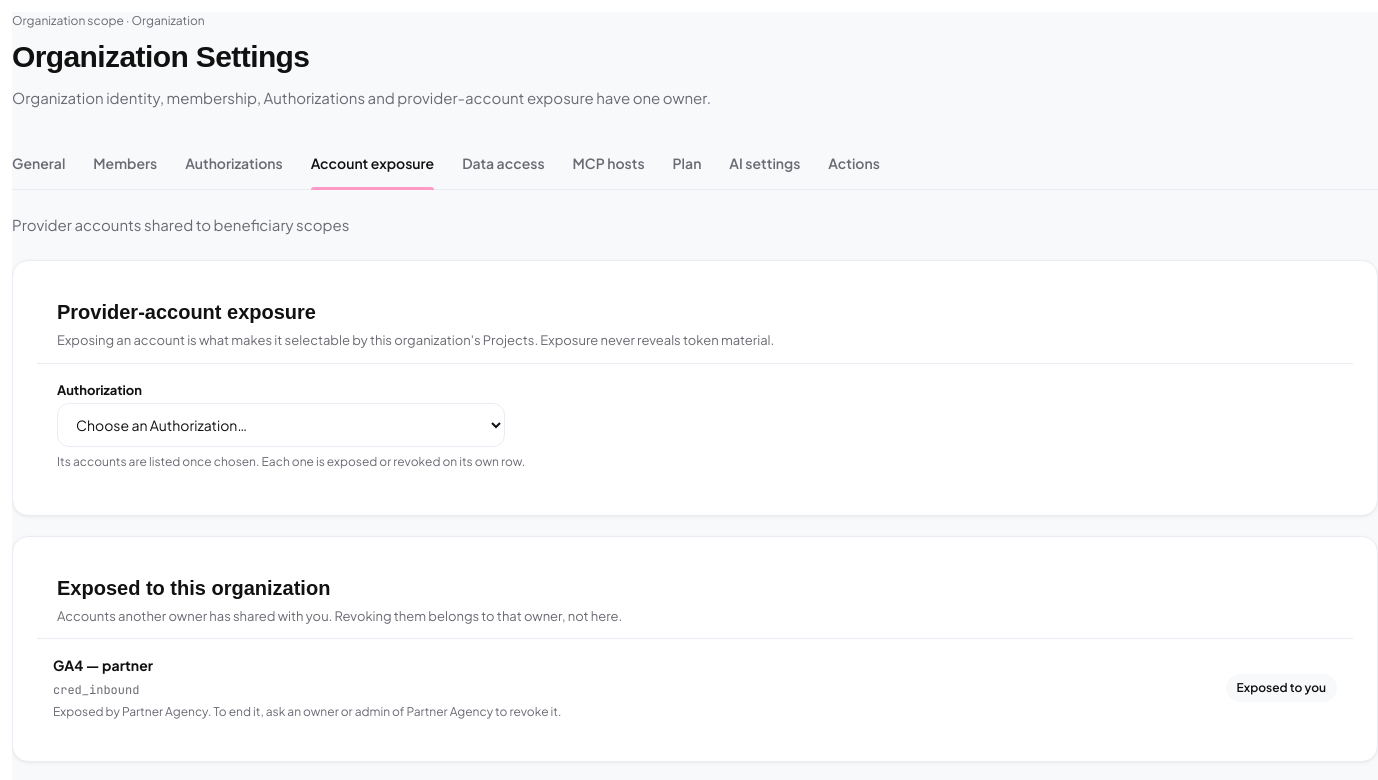
Test: Account exposure › does not ask for the connection identifier it just made you choose
Select "Google Ads — house" in the dropdown with test id "exposure-credential" at (281, 424), box top-left (57, 402), bottom-right (505, 446)
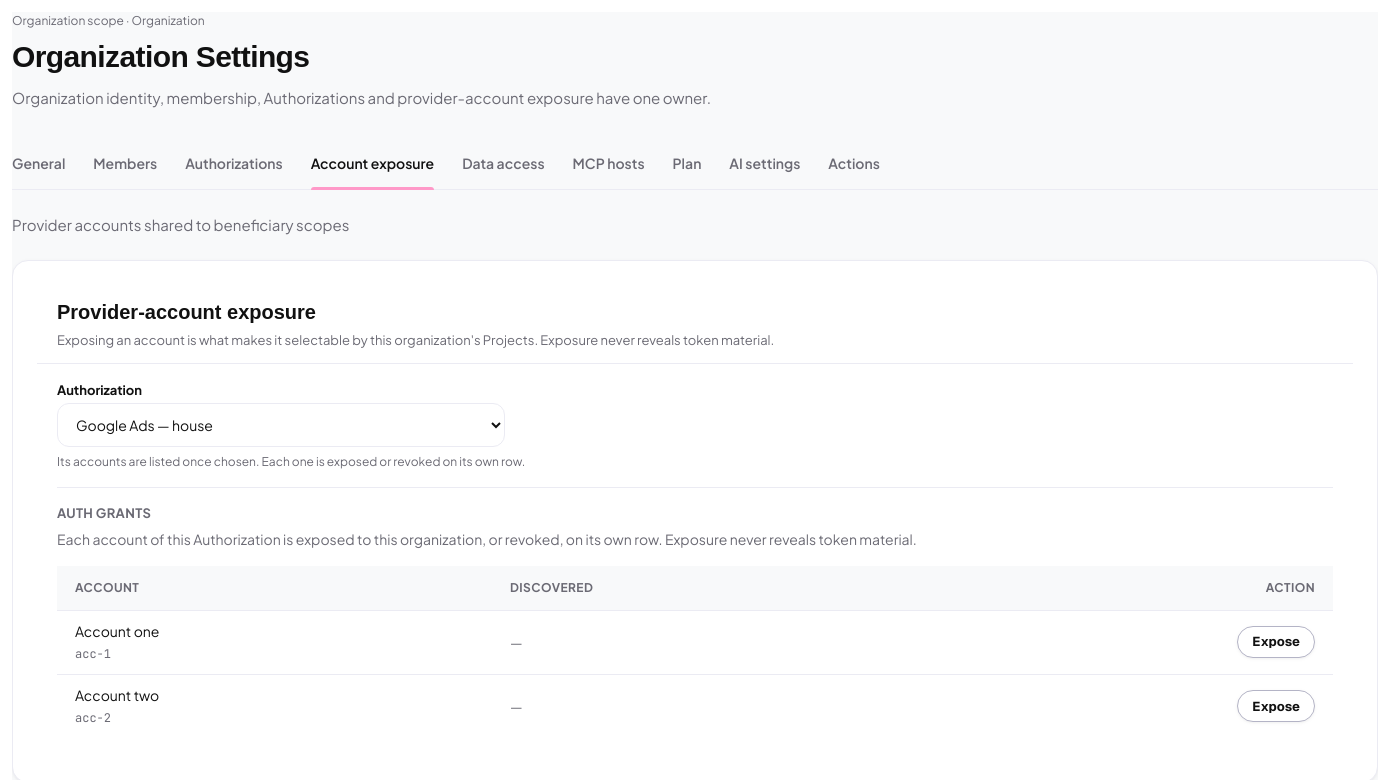
Check: the table with test id "accounts-table" is shown, box top-left (57, 566), bottom-right (1333, 738)
